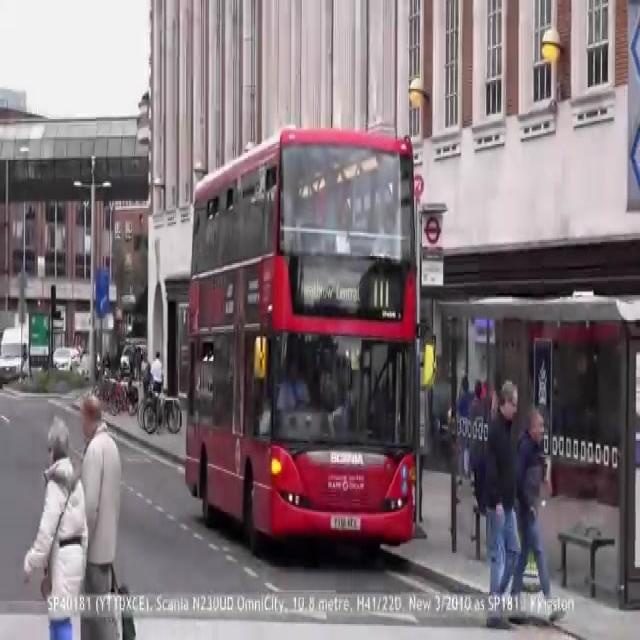Bus: (179, 112, 423, 560)
